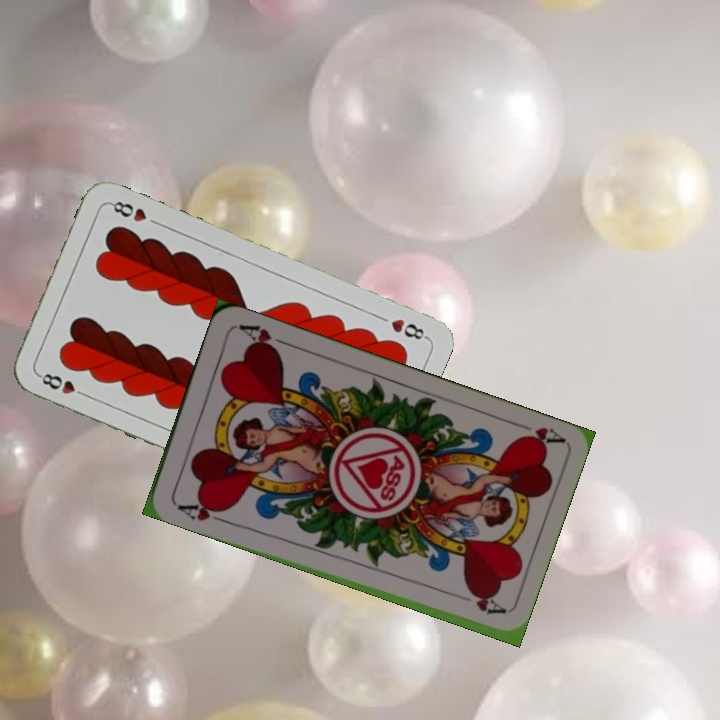H8: (373, 311, 430, 343), (34, 369, 90, 400)
HA: (508, 417, 566, 450), (171, 496, 231, 526)
